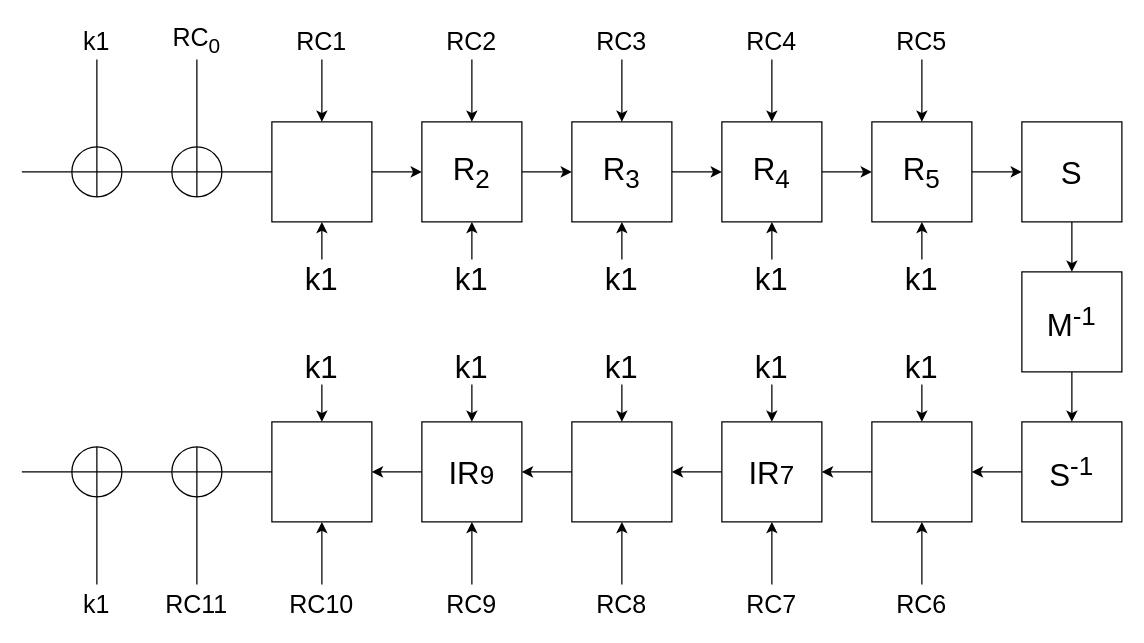
The diagram is 1144 pixels wide and 643 high, and some of its shapes have lost their labels. Here are the shapes that lost their labels. From the top down, the box of each, then its label:
(271, 121, 372, 222): R 1
(271, 421, 372, 522): IR 10
(571, 421, 672, 522): IR 8
(871, 421, 972, 522): IR 6
